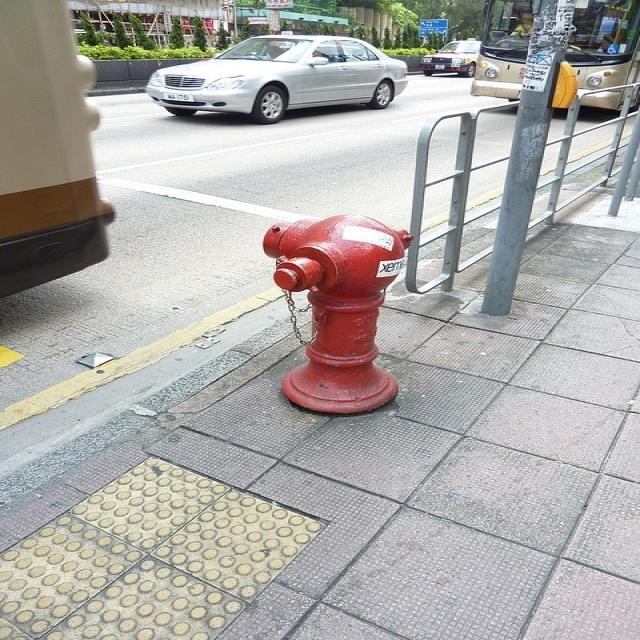fire_hydrant: (162, 164, 478, 522)
